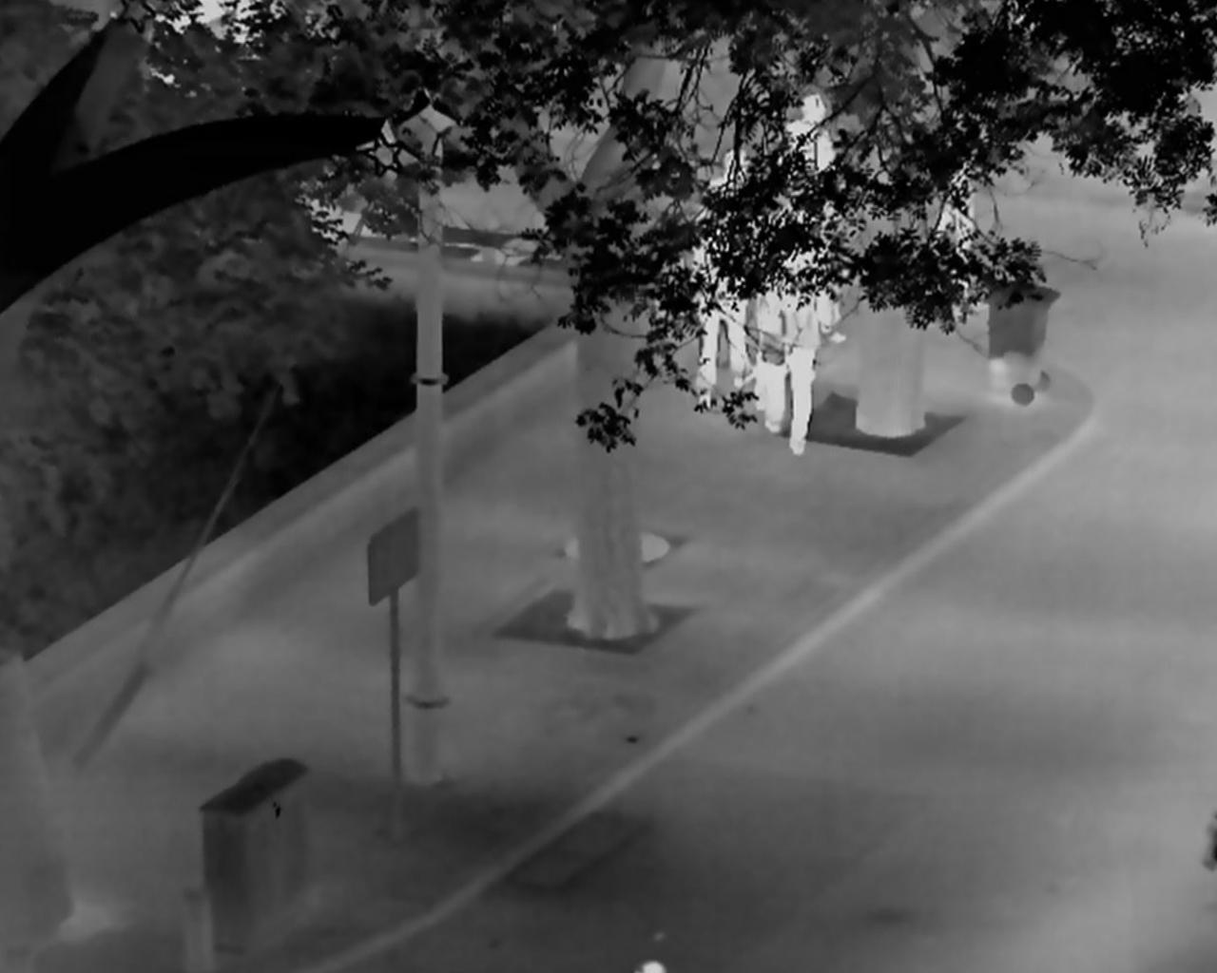person: (756, 228, 819, 458), (698, 215, 758, 410), (778, 191, 851, 345), (931, 120, 980, 315), (693, 148, 753, 293), (778, 93, 831, 197)
